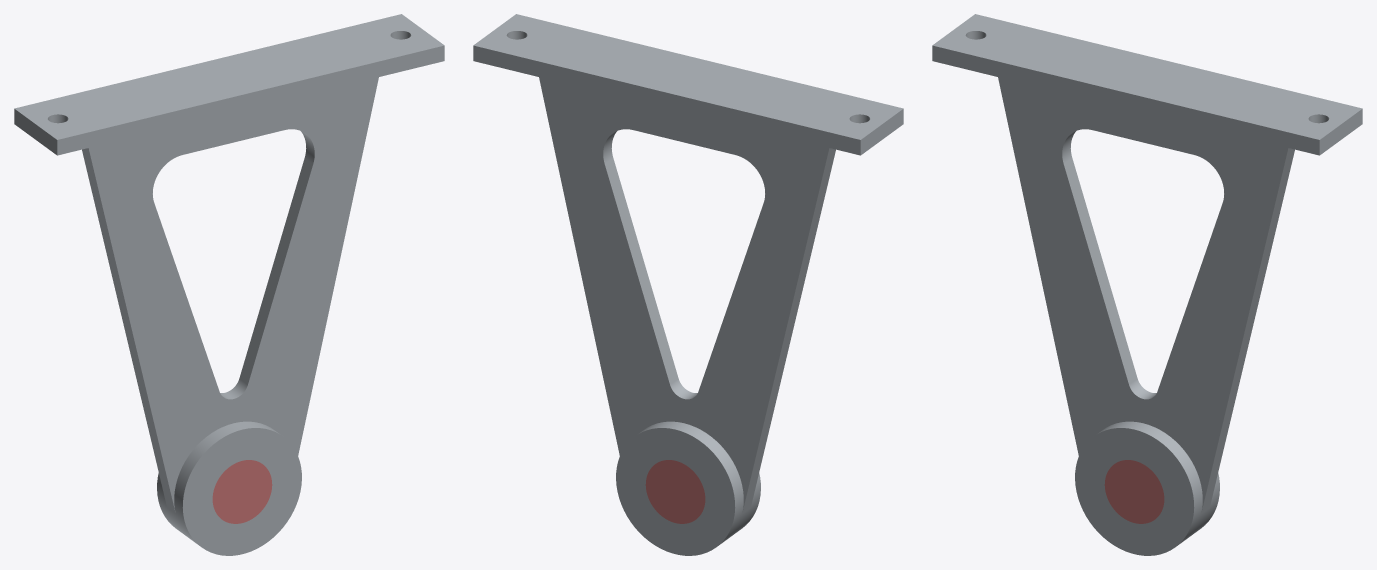
File: step_06.glb
The picture shows the model from 3 angles, left to right: view 1: azimuth 30°, elevation 25°; view 2: azimuth 150°, elevation 25°; view 3: azimuth 330°, elevation 25°; orthographic projection.
Parts seen in each view (by area): view 1: part__Worksheet 13 hanger bracket, removed__Worksheet 13 hanger bracket; view 2: part__Worksheet 13 hanger bracket, removed__Worksheet 13 hanger bracket; view 3: part__Worksheet 13 hanger bracket, removed__Worksheet 13 hanger bracket.
Boxes of the visible parts, x1,y1,x2,y2 form: part__Worksheet 13 hanger bracket: (14,14,444,555); removed__Worksheet 13 hanger bracket: (212,460,272,523); part__Worksheet 13 hanger bracket: (473,14,903,555); removed__Worksheet 13 hanger bracket: (645,460,705,523); part__Worksheet 13 hanger bracket: (932,14,1362,555); removed__Worksheet 13 hanger bracket: (1104,460,1164,523).
Size of the model in its own units: 130 by 150 by 25.
